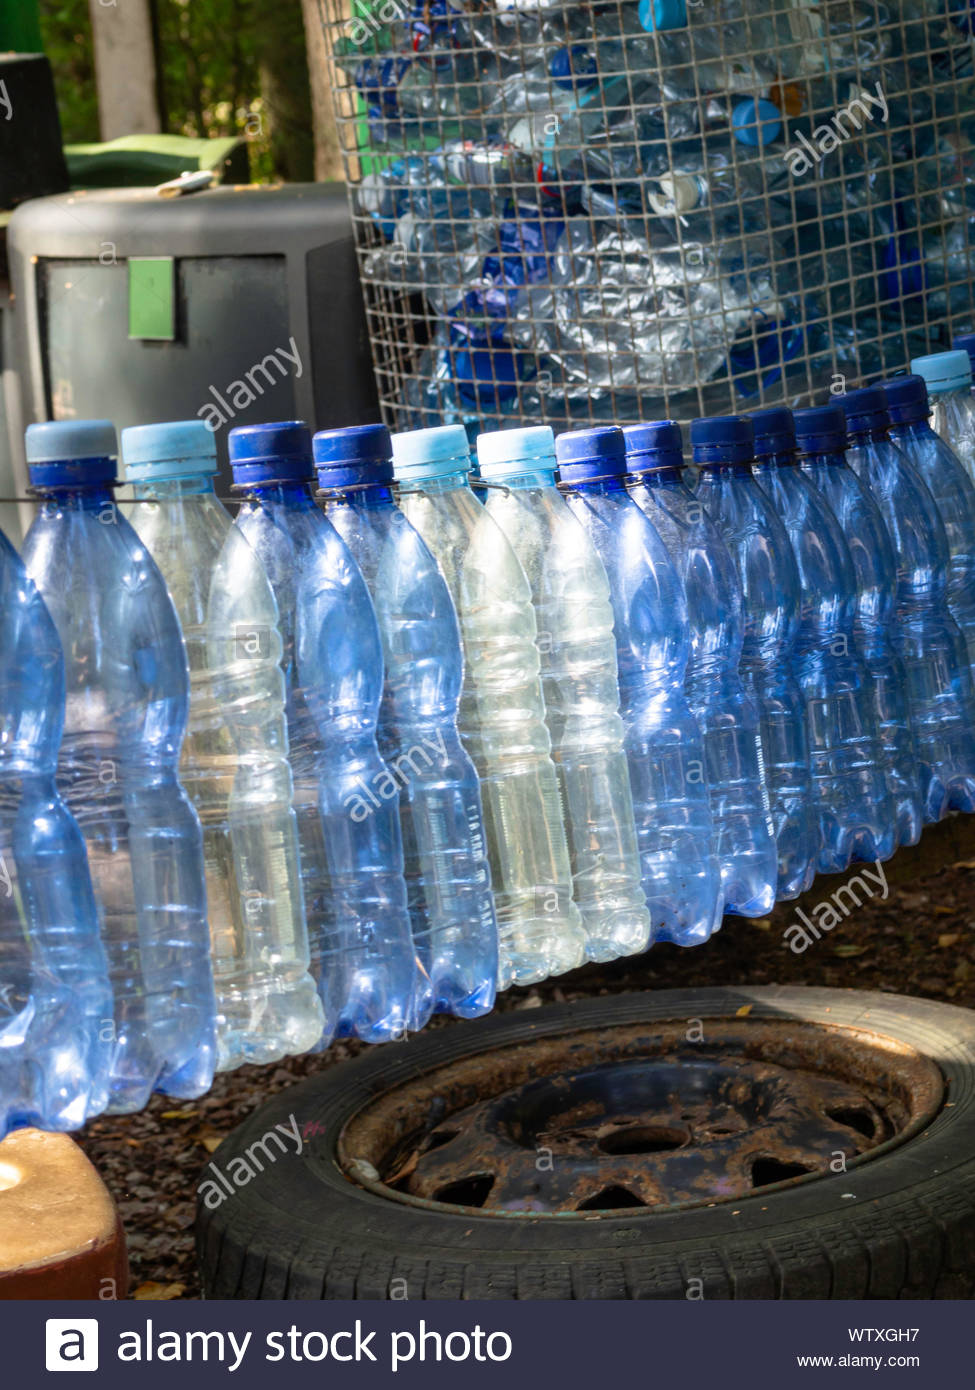plastic_bottle: (83, 370, 402, 1203), (371, 330, 650, 1186), (212, 359, 491, 1162), (460, 277, 689, 1128), (10, 353, 246, 1157), (293, 373, 526, 1186), (610, 350, 821, 1120), (547, 362, 744, 1162), (824, 281, 975, 1069), (716, 375, 870, 1103), (697, 331, 830, 1091), (785, 285, 878, 1145), (888, 203, 975, 633)
